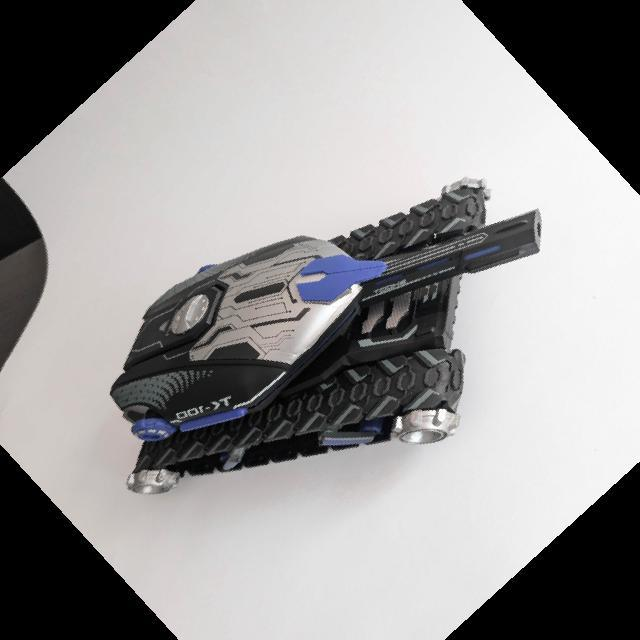barrel: (362, 208, 543, 306)
